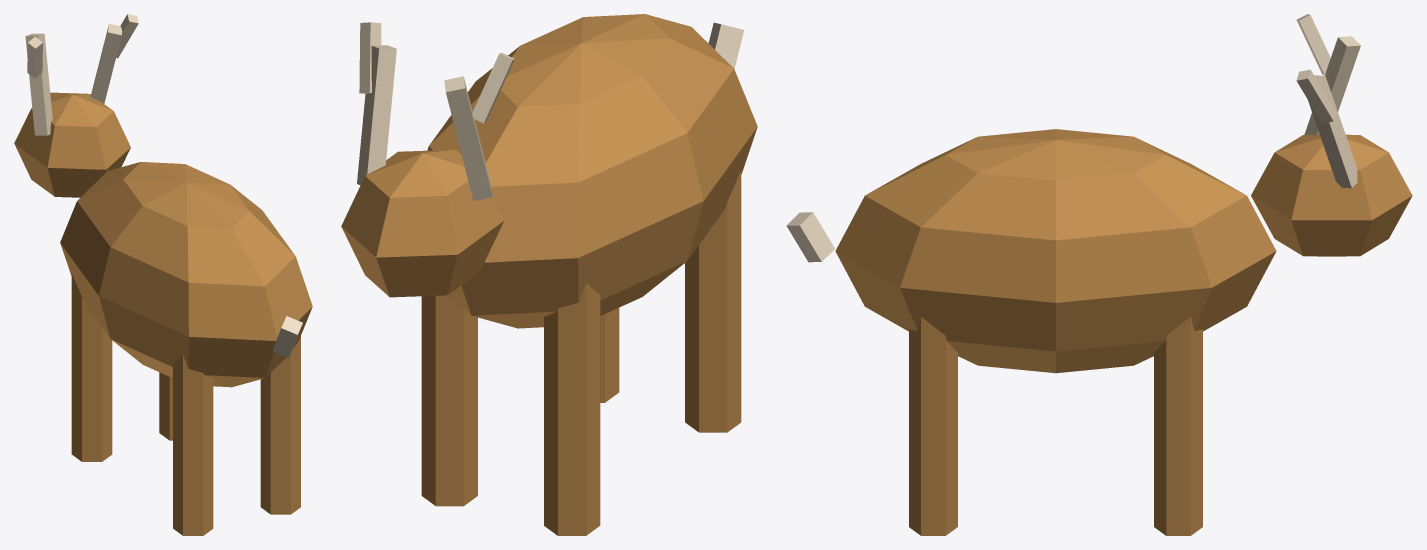
File: deer.glb
3 views of the same model, side by side, from view 1: azimuth 30°, elevation 25°; view 2: azimuth 150°, elevation 25°; view 3: azimuth 270°, elevation 25° (orthographic). The views are drawn at different scales.
Parts seen in each view (by area): view 1: DeerBody, DeerHead, DeerLeg0, DeerLeg2, DeerLeg1, DeerAntler-1, DeerAntler1, DeerLeg3, DeerTail, DeerBranch-1, DeerBranch1; view 2: DeerBody, DeerHead, DeerLeg2, DeerLeg0, DeerLeg3, DeerAntler1, DeerAntler-1, DeerLeg1, DeerBranch-1, DeerBranch1, DeerTail; view 3: DeerBody, DeerHead, DeerLeg3, DeerLeg1, DeerAntler1, DeerAntler-1, DeerTail, DeerBranch1, DeerBranch-1.
Part boxes in pixels (left/top/right/bottom): DeerBody: left=60, top=162, right=312, bottom=387; DeerHead: left=14, top=92, right=130, bottom=197; DeerLeg0: left=173, top=355, right=213, bottom=535; DeerLeg2: left=71, top=273, right=112, bottom=461; DeerLeg1: left=260, top=336, right=300, bottom=514; DeerAntler-1: left=25, top=33, right=52, bottom=135; DeerAntler1: left=91, top=24, right=122, bottom=103; DeerLeg3: left=159, top=372, right=172, bottom=440; DeerTail: left=272, top=316, right=302, bottom=358; DeerBranch-1: left=27, top=36, right=42, bottom=78; DeerBranch1: left=116, top=14, right=138, bottom=58; DeerBody: left=427, top=14, right=757, bottom=328; DeerHead: left=341, top=149, right=503, bottom=297; DeerLeg2: left=544, top=283, right=600, bottom=535; DeerLeg0: left=685, top=170, right=741, bottom=432; DeerLeg3: left=421, top=294, right=477, bottom=506; DeerAntler1: left=357, top=45, right=396, bottom=185; DeerAntler-1: left=444, top=76, right=492, bottom=200; DeerLeg1: left=600, top=308, right=619, bottom=402; DeerBranch-1: left=472, top=52, right=514, bottom=123; DeerBranch1: left=359, top=22, right=381, bottom=93; DeerTail: left=708, top=22, right=743, bottom=68; DeerBody: left=835, top=129, right=1276, bottom=373; DeerHead: left=1251, top=134, right=1412, bottom=256; DeerLeg3: left=1154, top=316, right=1202, bottom=535; DeerLeg1: left=909, top=317, right=957, bottom=535; DeerAntler1: left=1308, top=75, right=1357, bottom=188; DeerAntler-1: left=1304, top=36, right=1360, bottom=134; DeerTail: left=786, top=212, right=834, bottom=262; DeerBranch1: left=1296, top=69, right=1336, bottom=123; DeerBranch-1: left=1296, top=14, right=1330, bottom=75.
Size of the model in its own units: 0.08 by 0.1652 by 0.2044.
